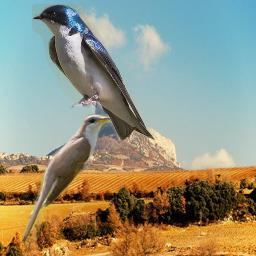Cuckoo: (18, 114, 114, 247)
Swallow: (32, 4, 156, 142)
